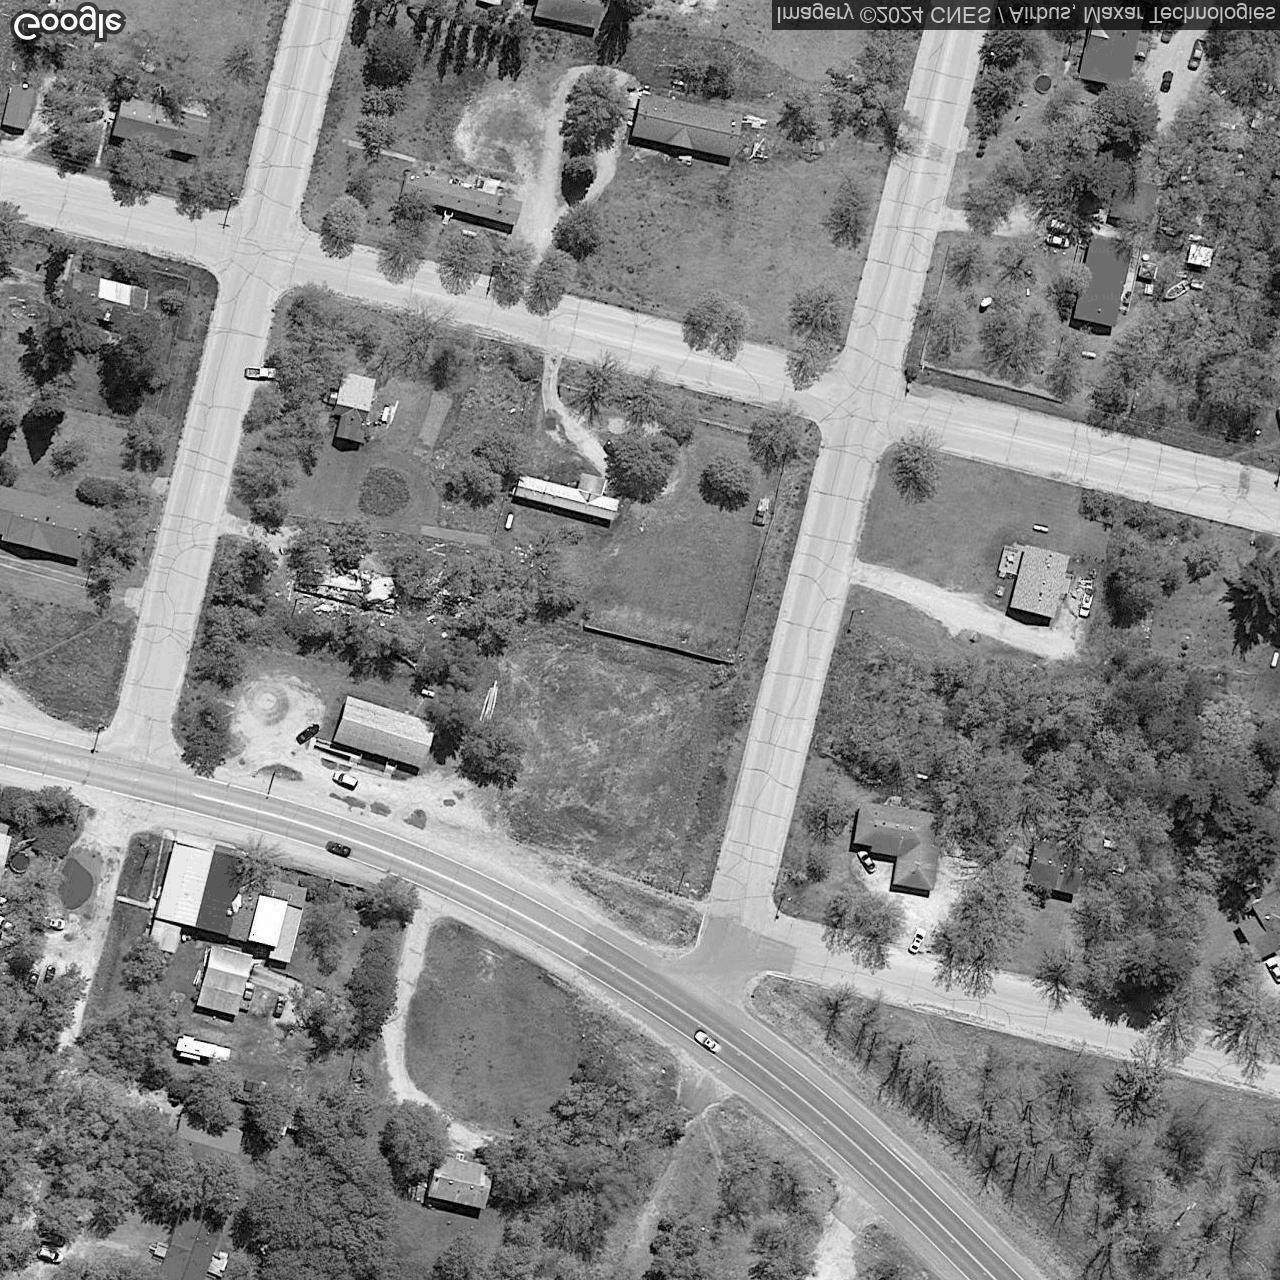Garage: (197, 945, 254, 1017), (1109, 178, 1159, 224), (1, 84, 38, 131), (1268, 651, 1279, 670)
House: (148, 842, 308, 964), (852, 802, 945, 891), (332, 694, 437, 770), (631, 94, 744, 158), (110, 95, 212, 158), (159, 1193, 231, 1280), (1074, 234, 1132, 327), (63, 271, 149, 331), (1009, 544, 1071, 619), (171, 1111, 244, 1175), (424, 1152, 496, 1211), (326, 372, 379, 444), (1023, 838, 1090, 894), (1078, 30, 1139, 86), (1239, 887, 1279, 960), (533, 1, 606, 28), (0, 831, 14, 884)
Propane: (379, 404, 392, 423), (504, 511, 513, 532), (1033, 523, 1049, 535), (421, 688, 436, 700), (462, 229, 478, 239), (914, 772, 931, 783), (1081, 349, 1097, 360)
Trailer: (400, 171, 523, 226), (513, 474, 620, 523), (177, 1035, 232, 1064)
